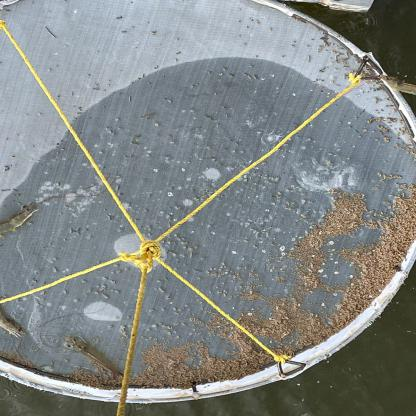shrimp: (62, 336, 124, 382), (1, 203, 39, 237), (0, 302, 29, 338)
